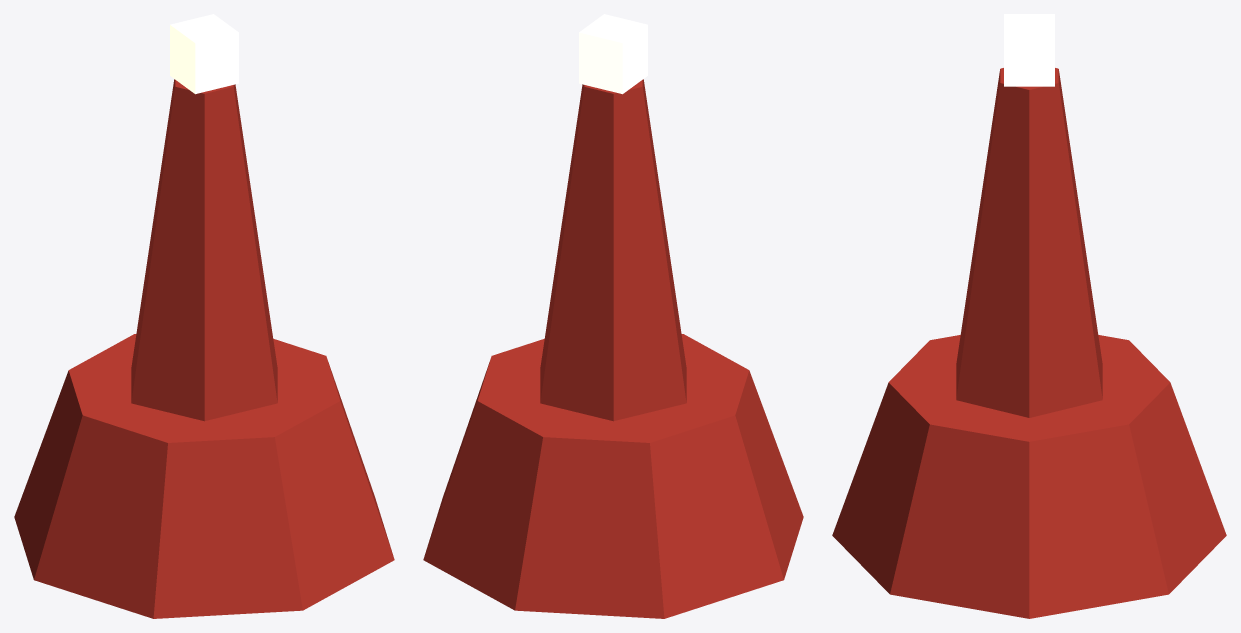
The model's file is buoy.glb.
3 views of the same model, side by side, from view 1: azimuth 30°, elevation 25°; view 2: azimuth 150°, elevation 25°; view 3: azimuth 270°, elevation 25° (orthographic).
Parts seen in each view (by area): view 1: buoy; view 2: buoy; view 3: buoy.
Boxes of the visible parts, x1,y1,x2,y2 form: buoy: (14,14,394,618); buoy: (423,14,803,618); buoy: (832,14,1226,618).
Size of the model in its own units: 1.4 by 2 by 1.4.
